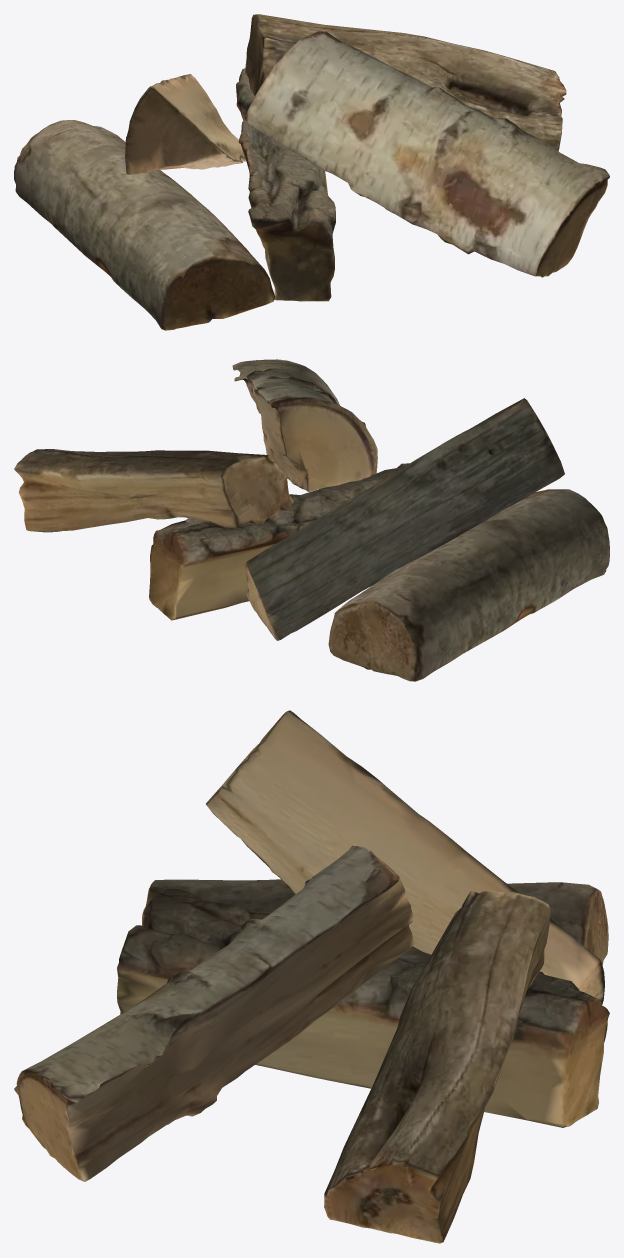
File: obj_dry_firewood.glb
3 views of the same model, one above another, from view 1: azimuth 30°, elevation 25°; view 2: azimuth 150°, elevation 25°; view 3: azimuth 270°, elevation 25° (orthographic). The views are drawn at different scales.
Parts seen in each view (by area): view 1: Object_2; view 2: Object_2; view 3: Object_2.
Part boxes in pixels (x1=…): Object_2: x1=14, y1=14, x2=609, y2=330; Object_2: x1=14, y1=359, x2=609, y2=681; Object_2: x1=14, y1=710, x2=609, y2=1243.
Size of the model in its own units: 0.55 by 0.2152 by 0.4444.
1 material, 1 textured.
